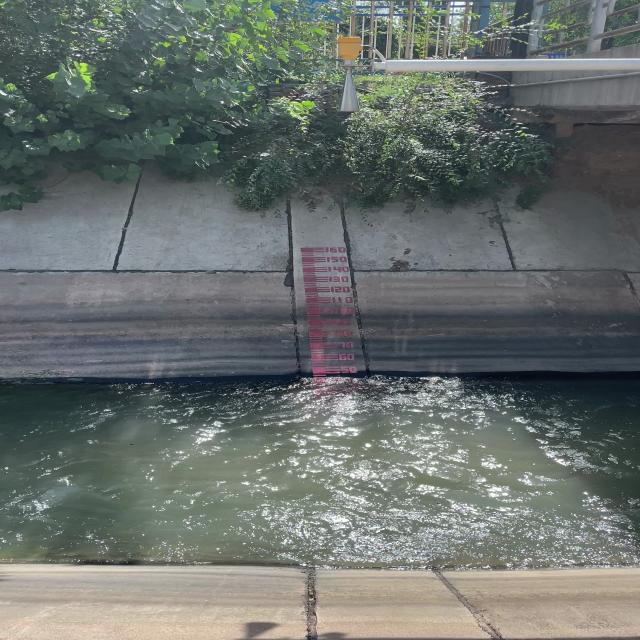ruler: (296, 244, 363, 378)
value: (324, 245, 349, 255), (332, 306, 357, 316), (326, 265, 352, 273), (326, 255, 352, 263), (336, 353, 356, 363), (334, 328, 354, 338), (332, 296, 356, 304), (327, 275, 351, 283), (332, 317, 352, 326), (329, 286, 354, 293), (339, 366, 358, 375), (336, 342, 356, 350)
